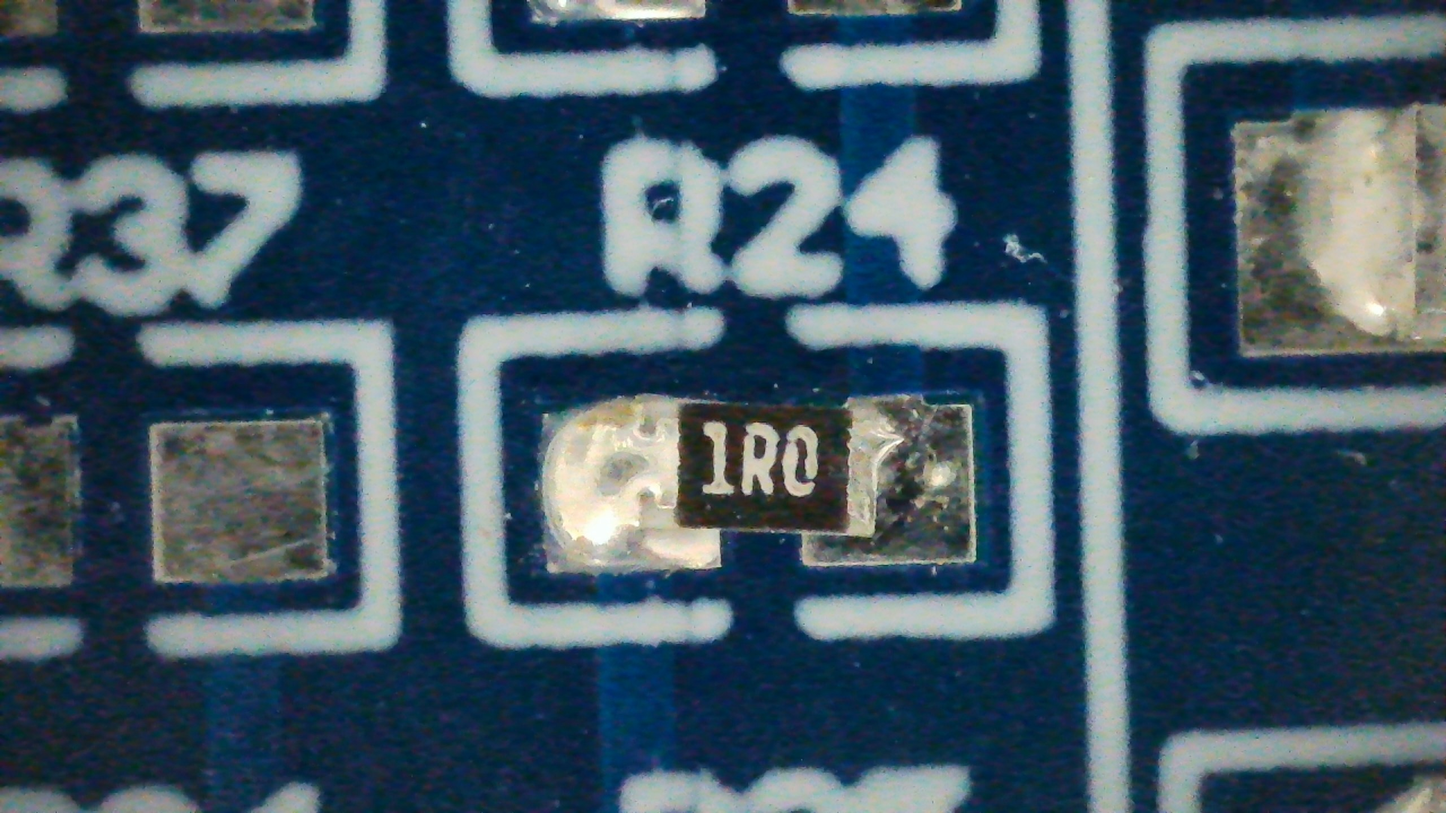NG: (545, 393, 977, 572)
